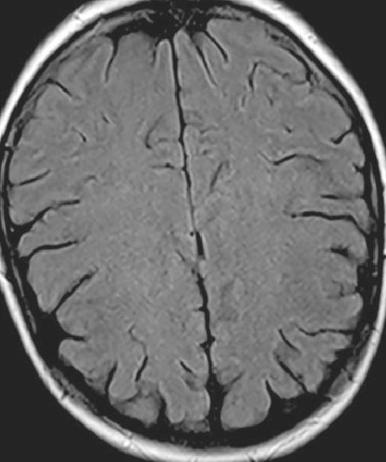Normal_Brain: (1, 1, 386, 462)
